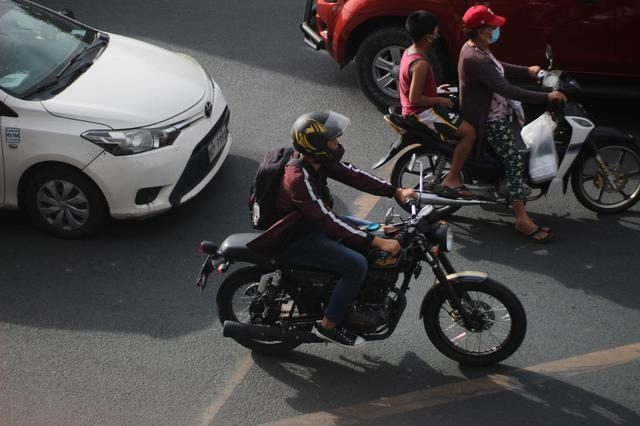helmet: (291, 111, 346, 170)
motorcycle: (198, 110, 529, 370)
